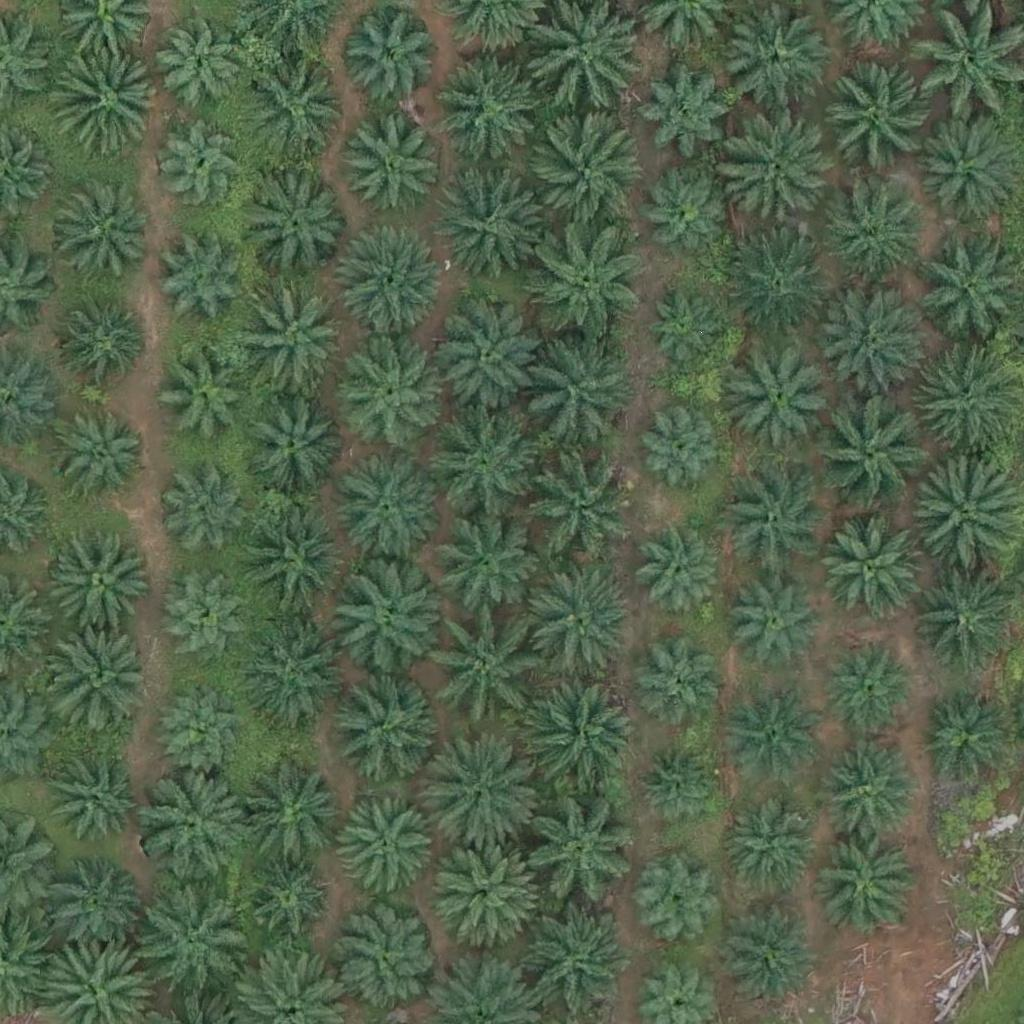Kelapa_Sawit: (429, 741, 542, 855), (717, 7, 830, 121), (435, 164, 548, 278), (527, 563, 640, 676), (523, 682, 636, 795), (516, 798, 629, 911), (323, 567, 436, 680), (131, 872, 244, 985), (910, 113, 1023, 226), (907, 346, 1020, 459), (820, 60, 933, 173), (534, 119, 647, 232), (428, 300, 541, 413), (435, 54, 548, 167), (334, 226, 447, 339), (240, 288, 353, 401), (238, 46, 351, 159), (134, 770, 246, 884), (824, 512, 936, 626), (529, 224, 641, 338), (238, 502, 350, 616), (49, 45, 161, 159), (910, 573, 1022, 686), (429, 836, 541, 949), (436, 611, 548, 724), (321, 672, 433, 785), (239, 620, 351, 733), (236, 760, 348, 873), (47, 623, 159, 736), (815, 391, 927, 504), (811, 282, 923, 395), (725, 121, 837, 234), (724, 223, 836, 336), (725, 342, 837, 455), (714, 463, 826, 576), (531, 2, 643, 115), (520, 334, 632, 447), (525, 444, 637, 557), (427, 499, 539, 612), (426, 408, 538, 521), (333, 455, 445, 568), (42, 524, 154, 637), (819, 744, 919, 845), (815, 836, 915, 937), (720, 792, 820, 893), (721, 901, 821, 1002), (335, 798, 435, 899), (335, 910, 435, 1011), (45, 855, 145, 956), (49, 742, 149, 843), (826, 187, 926, 288), (637, 64, 737, 165), (337, 9, 437, 110), (345, 113, 445, 214), (341, 350, 441, 451), (237, 394, 337, 495), (248, 177, 348, 278), (47, 402, 147, 503), (727, 566, 827, 666), (722, 695, 822, 795), (48, 180, 148, 280), (825, 640, 913, 728), (637, 850, 725, 938), (240, 856, 328, 944), (157, 686, 245, 774), (155, 25, 243, 113), (160, 351, 248, 439), (165, 471, 253, 559), (53, 296, 141, 384), (921, 696, 1008, 784), (635, 742, 722, 830), (635, 637, 722, 725), (638, 525, 725, 613), (638, 401, 725, 489), (649, 168, 736, 256), (157, 122, 244, 210), (158, 241, 245, 329), (160, 576, 247, 664), (647, 291, 722, 367)
